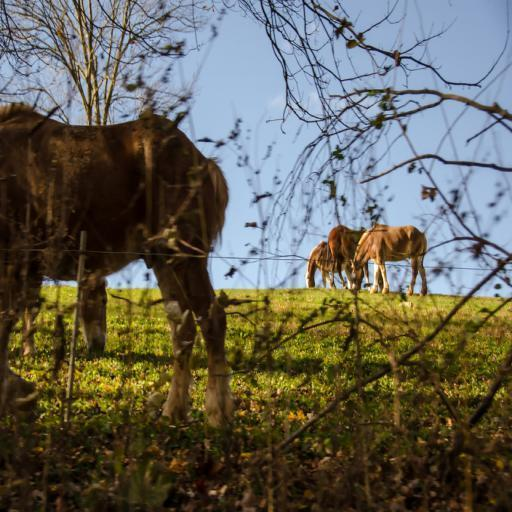horse: (0, 104, 231, 430), (20, 276, 110, 358), (351, 220, 429, 296), (326, 220, 384, 292), (303, 238, 353, 288)
